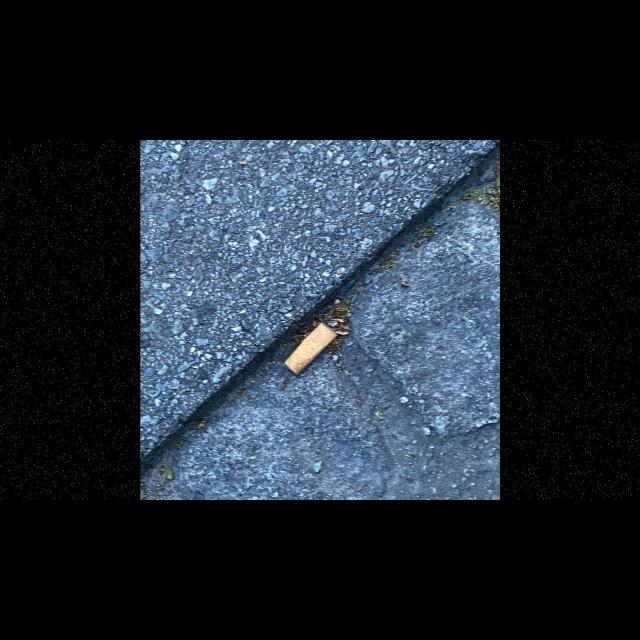cigarette: (283, 322, 338, 376)
